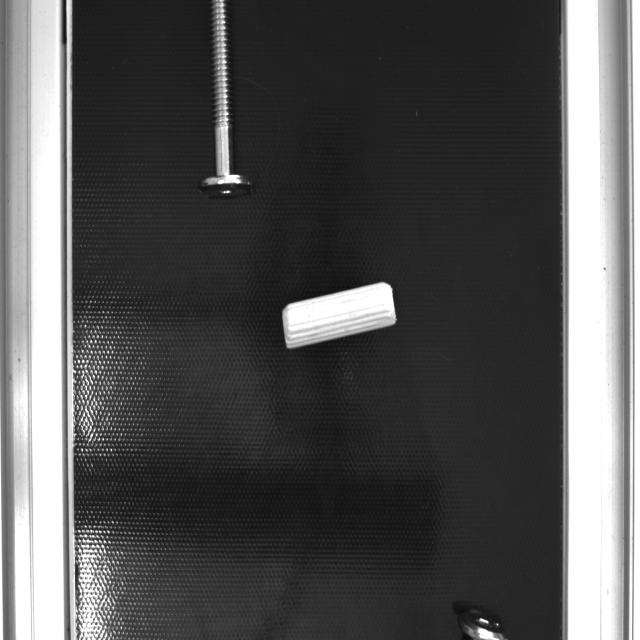Chot go: (281, 277, 397, 352)
bulon: (208, 2, 232, 178)
